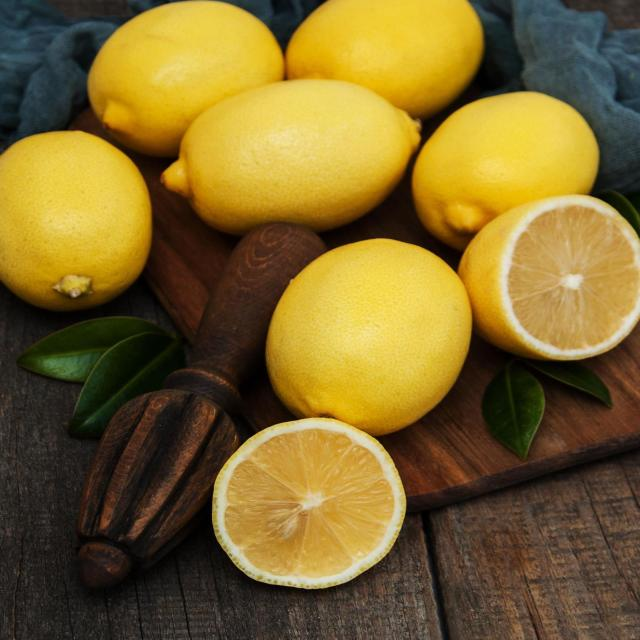lemon: (254, 234, 479, 442), (1, 123, 186, 314), (450, 186, 640, 368)
